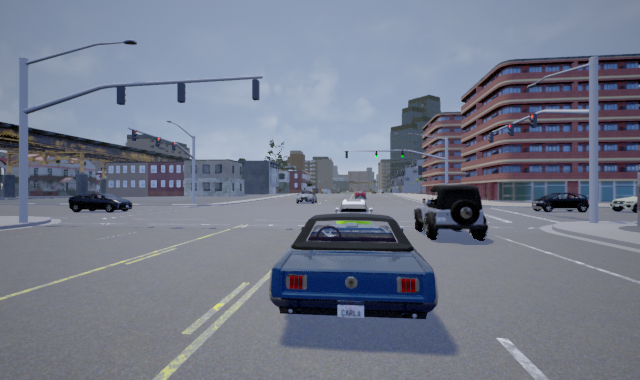vehicle: (267, 212, 439, 321), (412, 184, 488, 241), (331, 198, 375, 240), (67, 192, 132, 213), (528, 192, 592, 212), (608, 191, 639, 213), (295, 191, 318, 205), (352, 189, 368, 200)
